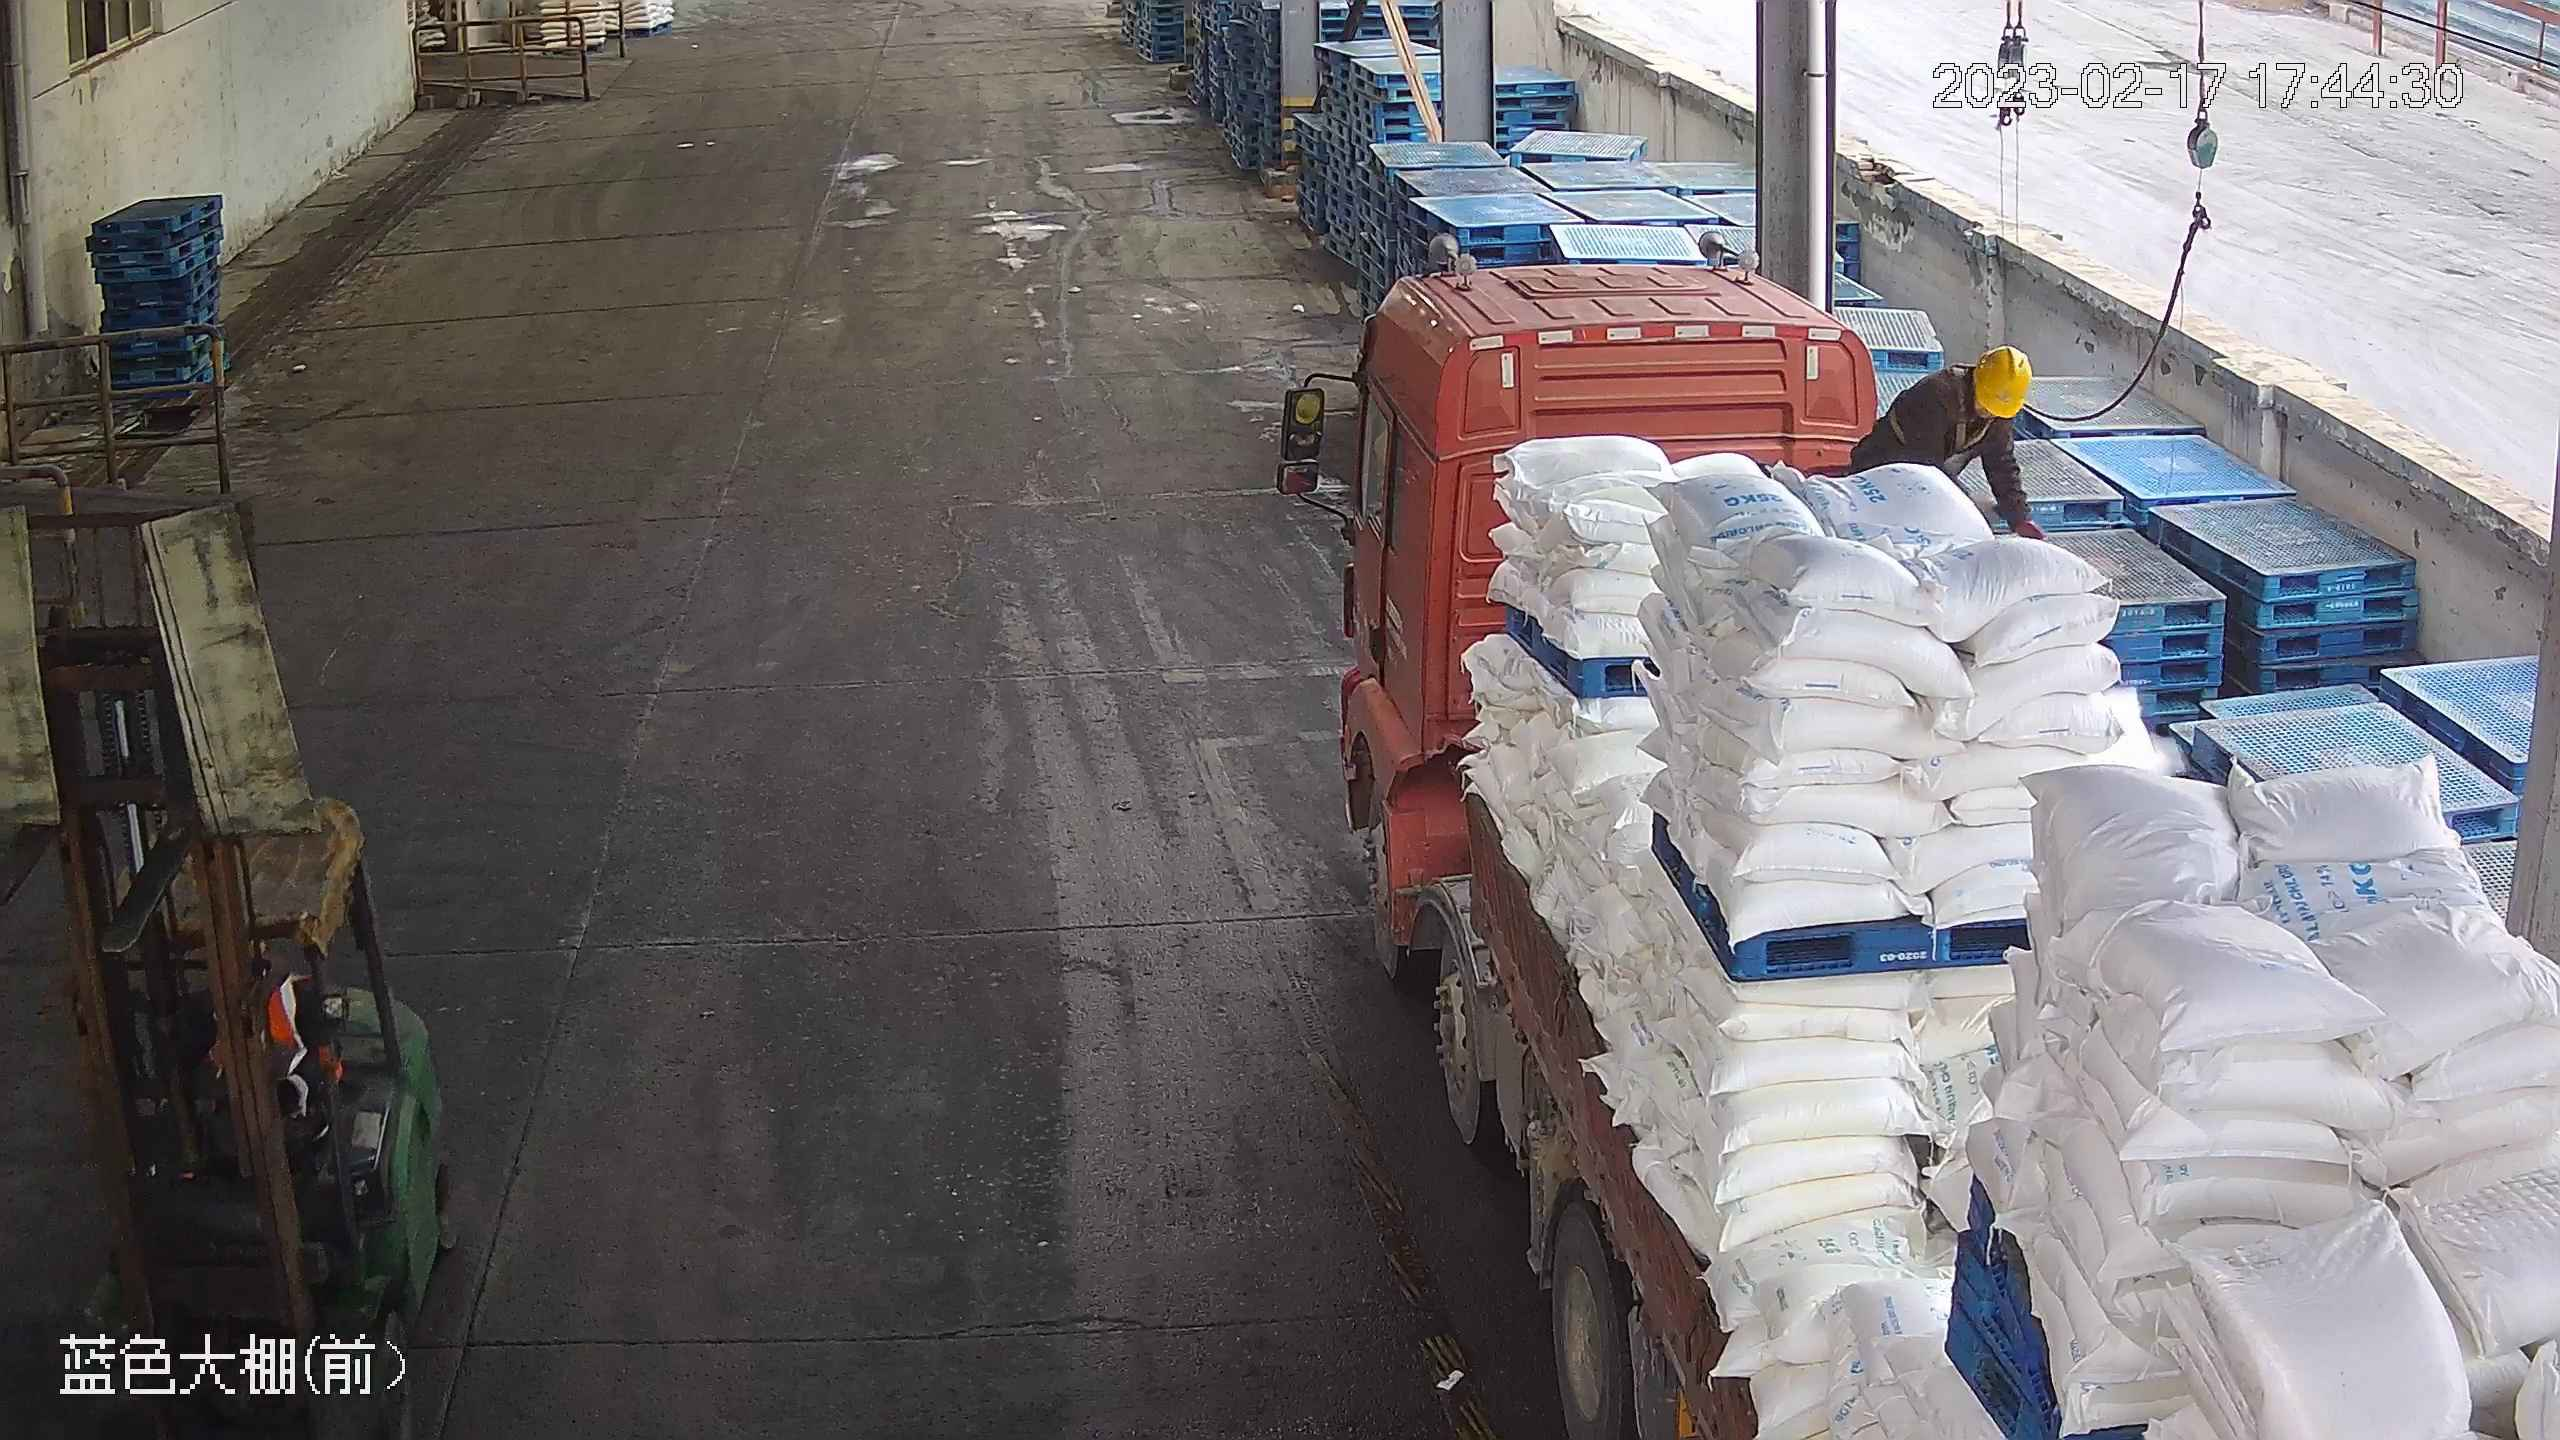belt: (1886, 361, 2000, 461)
head: (1867, 342, 2032, 476)
helmet: (1967, 344, 2029, 422)
truck: (1269, 254, 2560, 1440)
